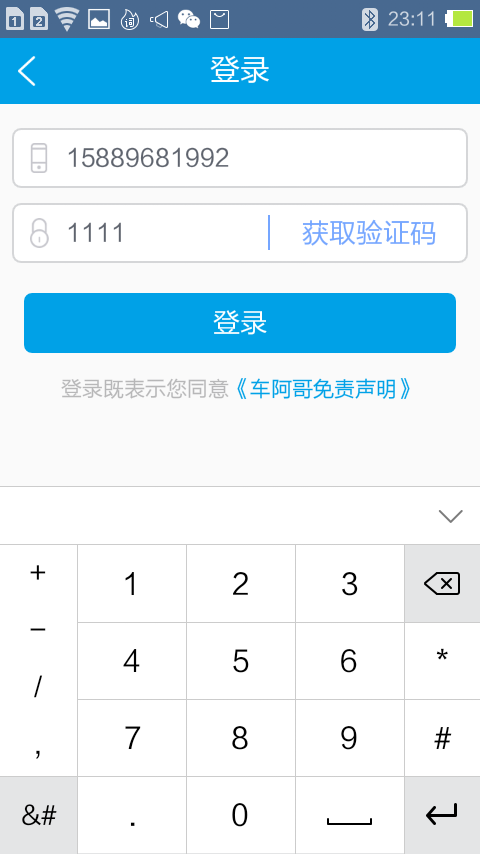imgbutton: (411, 558, 469, 611)
